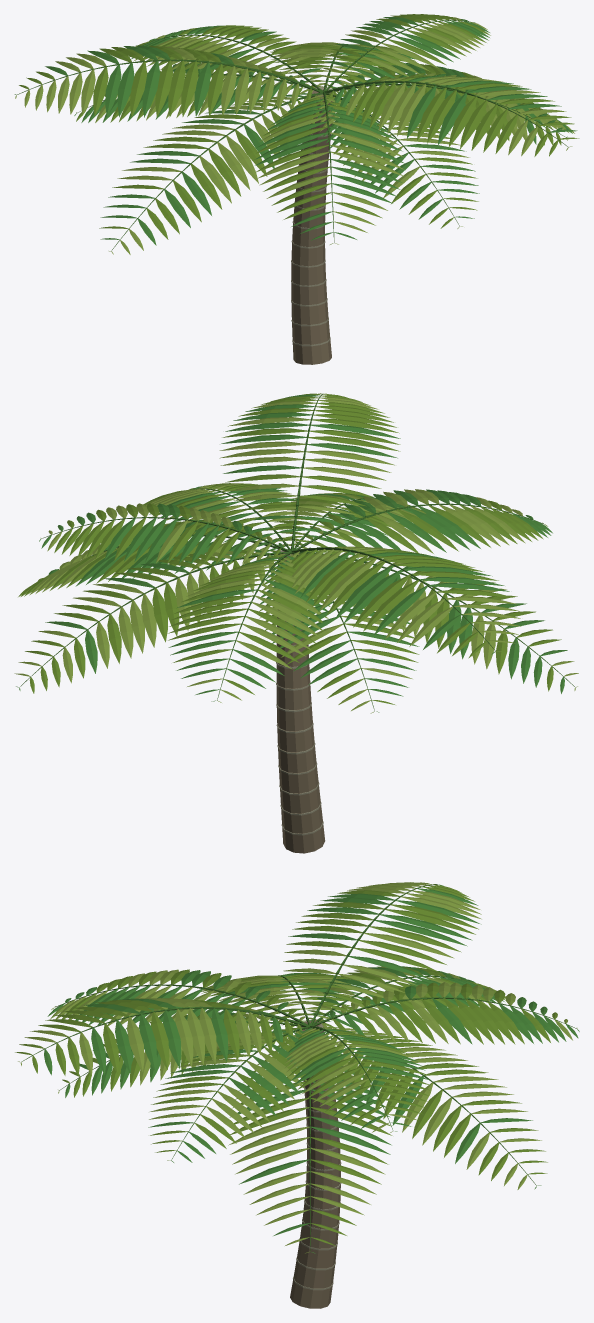
File: palm_young.glb
The picture shows the model from 3 angles, top to bottom: view 1: azimuth 30°, elevation 25°; view 2: azimuth 150°, elevation 25°; view 3: azimuth 270°, elevation 25°; orthographic projection. The views are drawn at different scales.
Visible parts, largest first — view 1: palm_young; view 2: palm_young; view 3: palm_young.
Part boxes in pixels (box(x1,y1,x2,y2)): palm_young: box(14, 14, 579, 364); palm_young: box(14, 393, 578, 853); palm_young: box(15, 882, 579, 1308).
Bounding box in the file's own units: 3.56 × 2.12 × 3.31.
